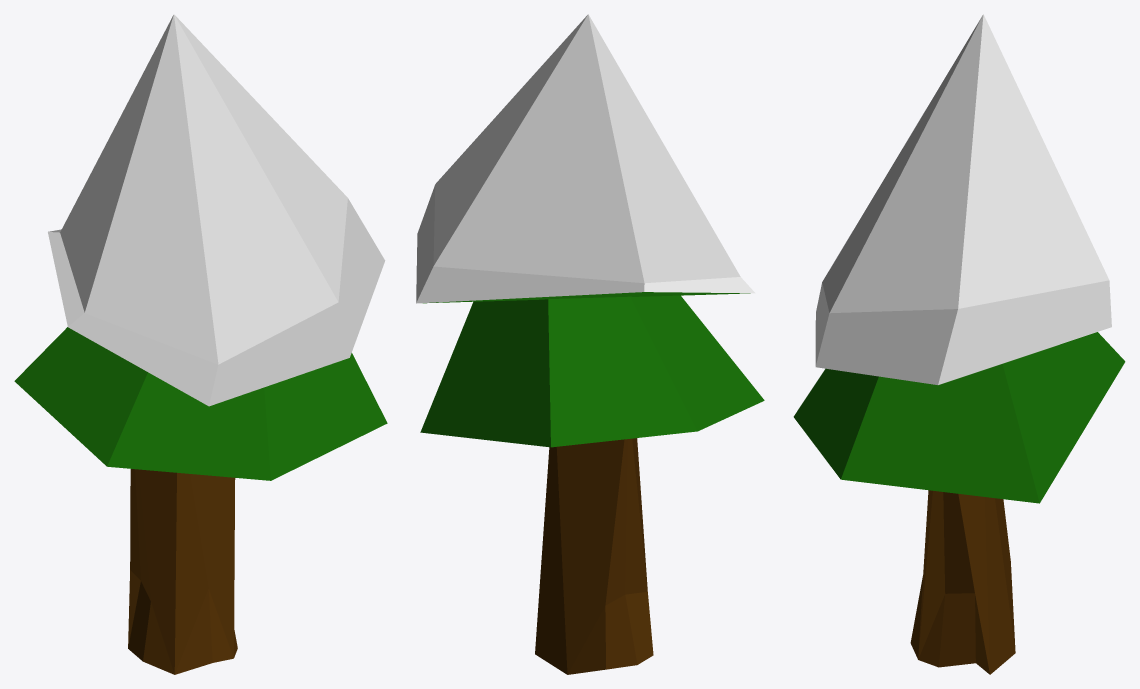
File: Pine tree#4_Snow.fbx
3 views of the same model, side by side, from view 1: azimuth 30°, elevation 25°; view 2: azimuth 150°, elevation 25°; view 3: azimuth 270°, elevation 25° (orthographic). The views are drawn at different scales.
Parts seen in each view (by area): view 1: Pine tree#4_Snow; view 2: Pine tree#4_Snow; view 3: Pine tree#4_Snow.
Boxes of the visible parts, box(x1,y1,x2,y2) form: Pine tree#4_Snow: box(14, 14, 387, 674); Pine tree#4_Snow: box(416, 14, 764, 674); Pine tree#4_Snow: box(793, 14, 1125, 674).
Bounding box in the file's own units: 431 × 805 × 380.
